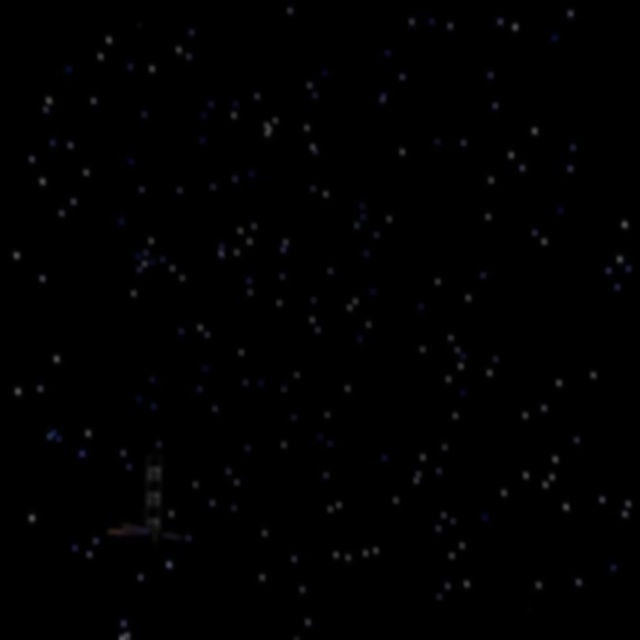medium_debris: (94, 453, 207, 561)
